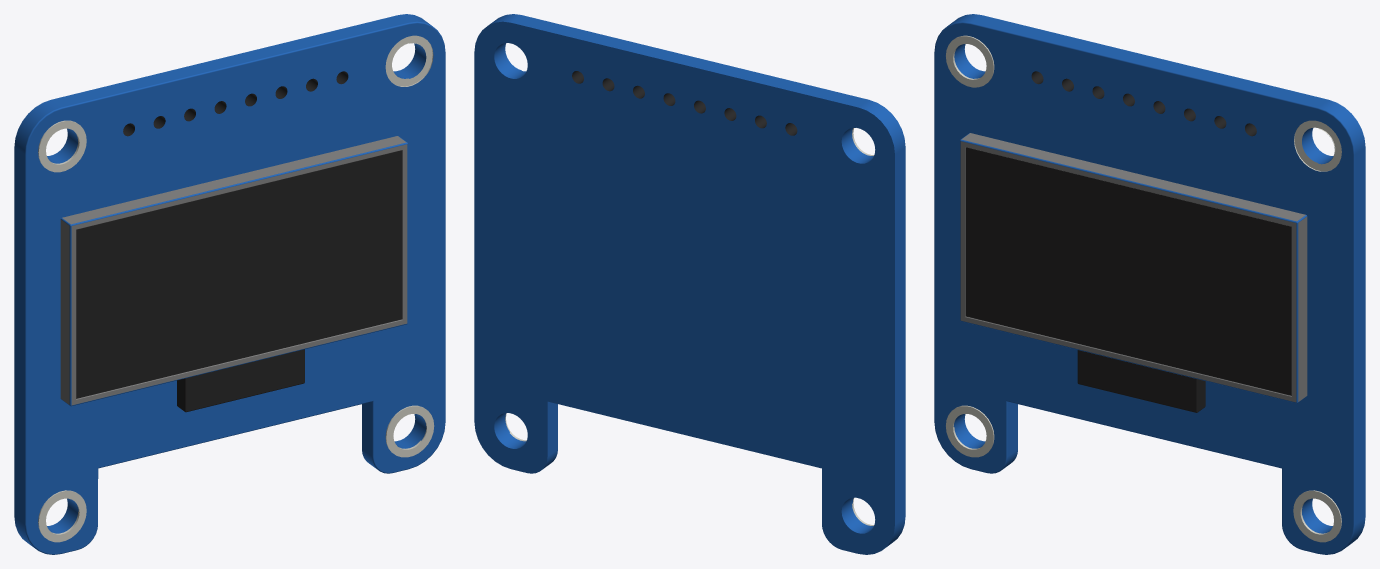
File: SSD1306_OLED.glb
3 views of the same model, side by side, from view 1: azimuth 30°, elevation 25°; view 2: azimuth 150°, elevation 25°; view 3: azimuth 330°, elevation 25° (orthographic).
Visible parts, largest first — view 1: Adafruit_SSD1306; view 2: Adafruit_SSD1306; view 3: Adafruit_SSD1306.
Boxes of the visible parts, x1,y1,x2,y2 form: Adafruit_SSD1306: [14, 14, 445, 554]; Adafruit_SSD1306: [474, 14, 905, 554]; Adafruit_SSD1306: [934, 14, 1365, 554].
Size of the model in its own units: 0.0351 by 0.0356 by 0.003.
